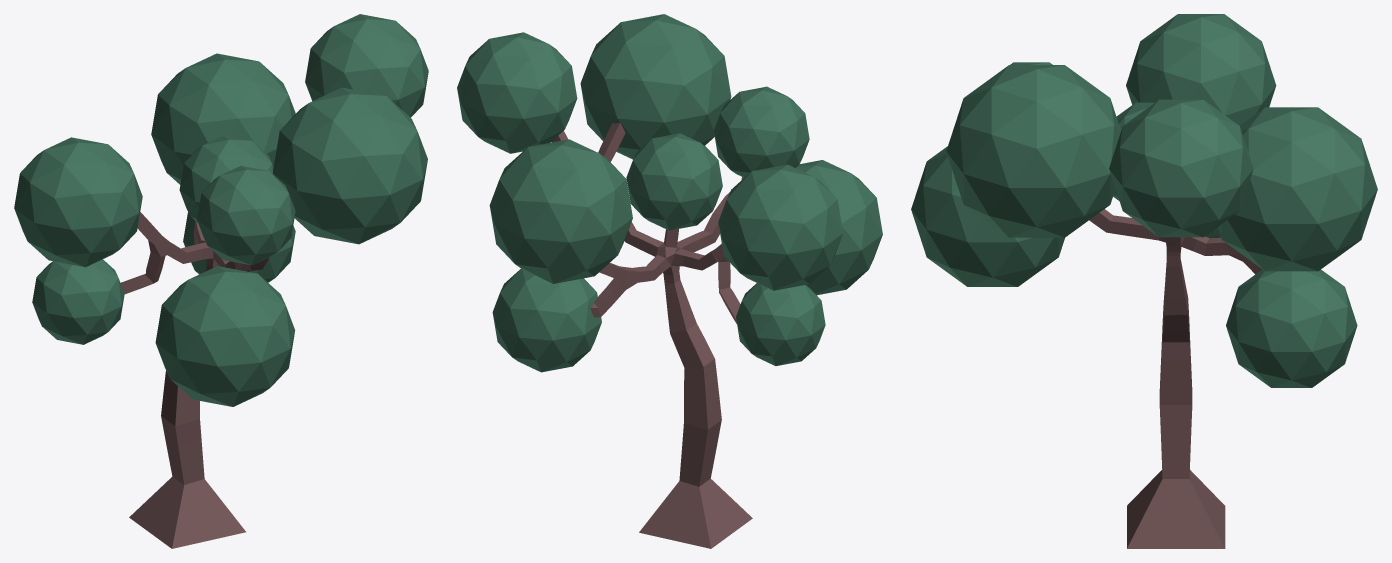
File: Arvore1.fbx
3 renders of one model, left to right at view 1: azimuth 30°, elevation 25°; view 2: azimuth 150°, elevation 25°; view 3: azimuth 270°, elevation 25°, orthographic. The views are drawn at different scales.
Visible parts, largest first — view 1: Icosphere.004; view 2: Icosphere.004; view 3: Icosphere.004.
Part boxes in pixels (x1,y1,x2,y2): Icosphere.004: (14,14,428,548); Icosphere.004: (457,14,882,548); Icosphere.004: (911,14,1377,548).
Size of the model in its own units: 944 by 1075 by 864.
